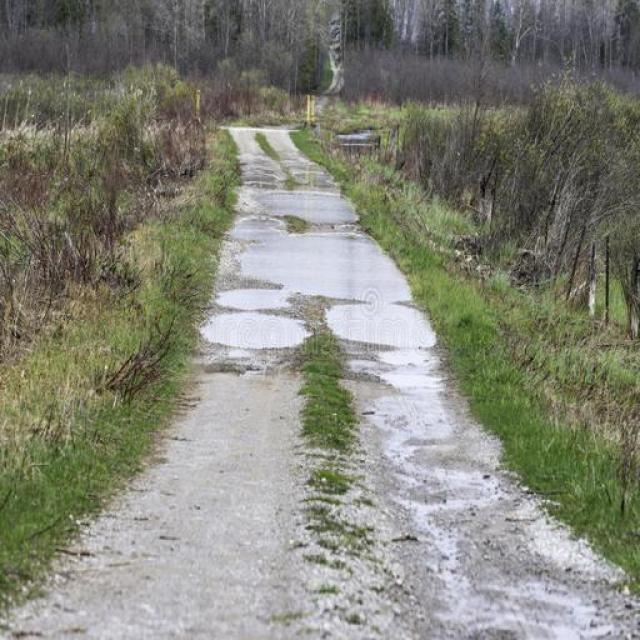puddle: (249, 236, 408, 301), (243, 187, 363, 228), (210, 308, 305, 353), (335, 299, 429, 344)
